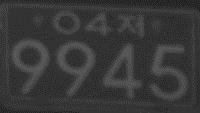0: (52, 9, 82, 34)
4: (103, 41, 142, 99), (84, 9, 114, 37)
5: (149, 45, 189, 102)
9: (53, 39, 96, 97), (11, 37, 50, 96)
저: (116, 11, 145, 39)
